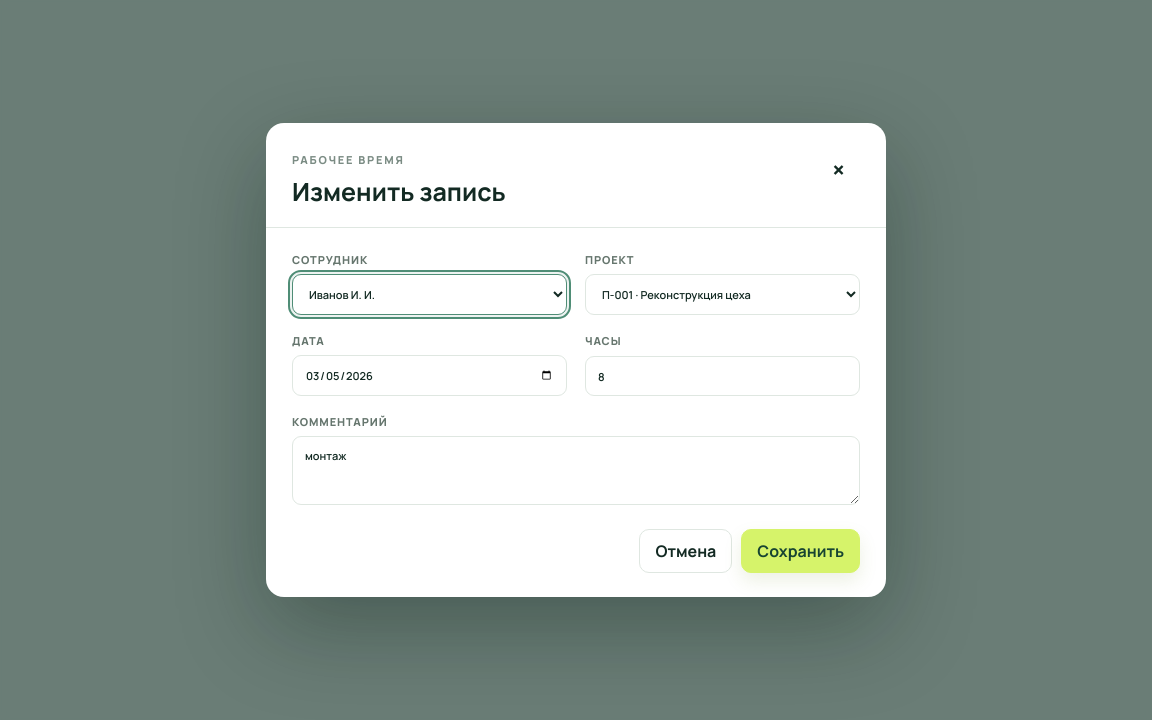
Test: EntryModal › keeps the form open and shows what the server refused
Step 1. Click the button "Сохранить" → (801,551), box [741, 529, 860, 573]
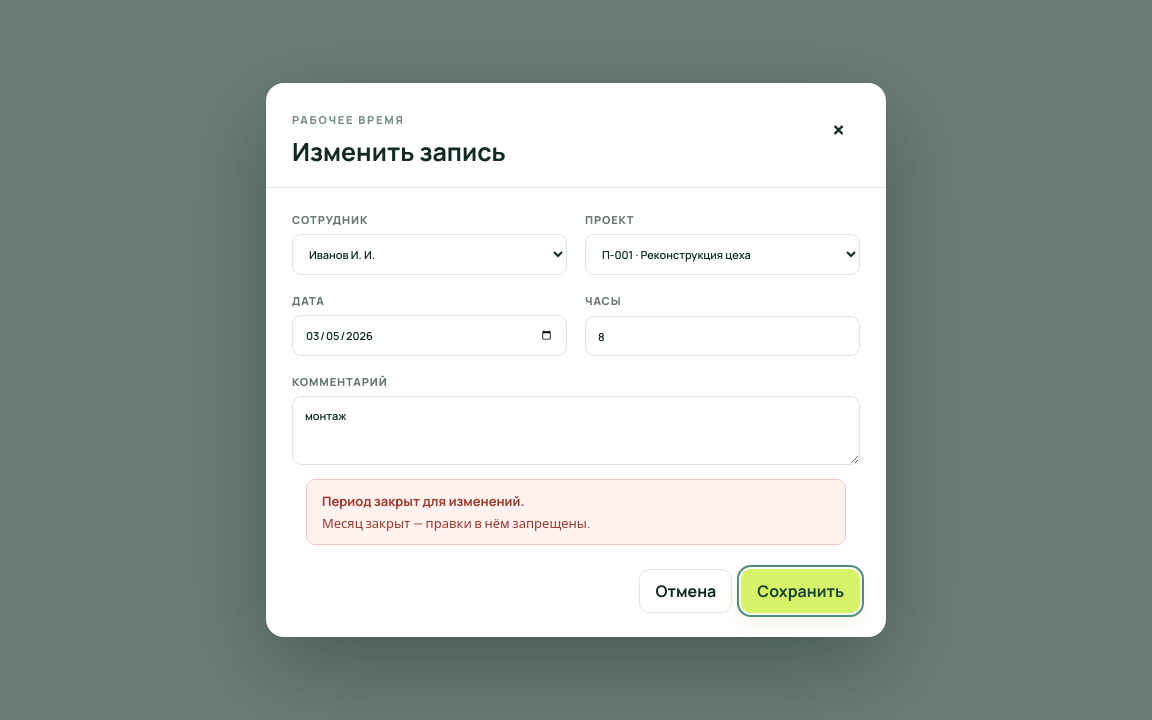
Check: the text "Период закрыт для изменений." is shown, box [322, 492, 524, 510]
